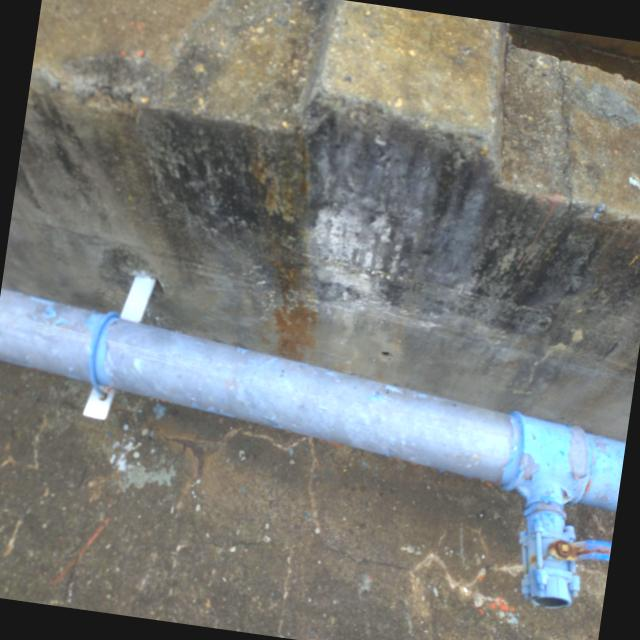gas: (0, 286, 623, 511)
